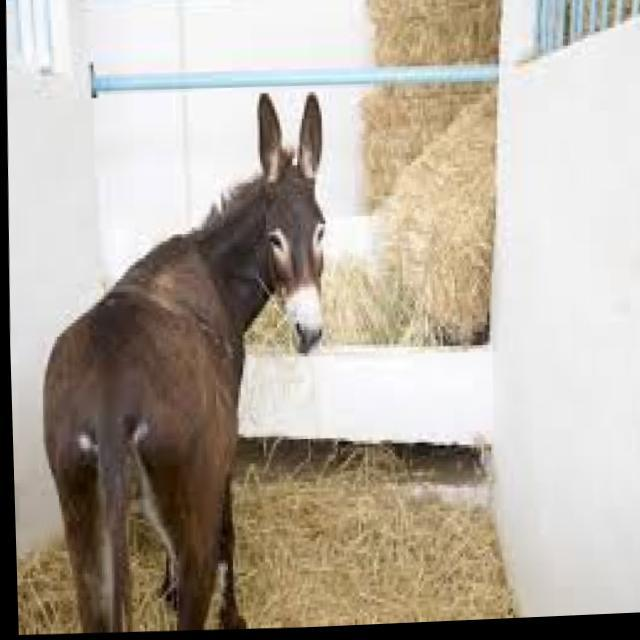Donkey: (78, 78, 350, 544)
